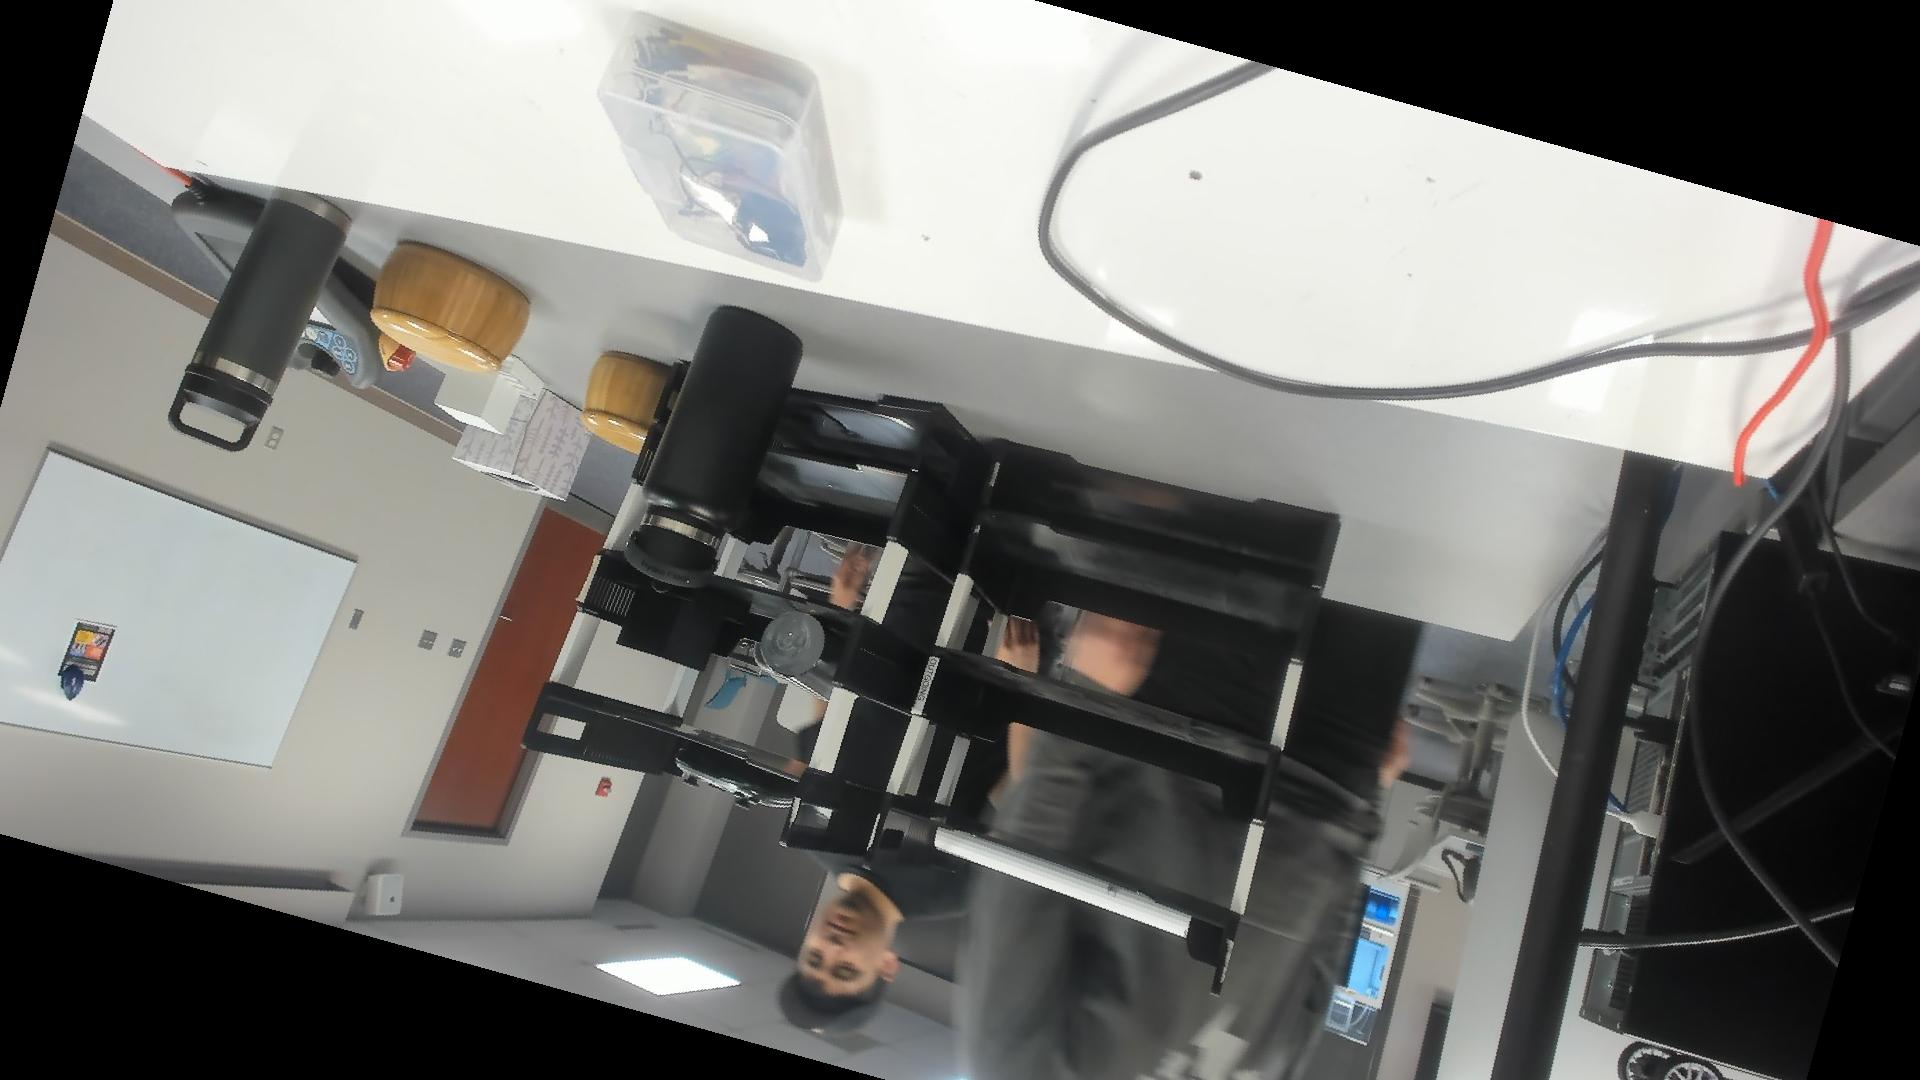black pallet: (607, 568, 758, 678)
white pallet: (429, 344, 549, 443)
